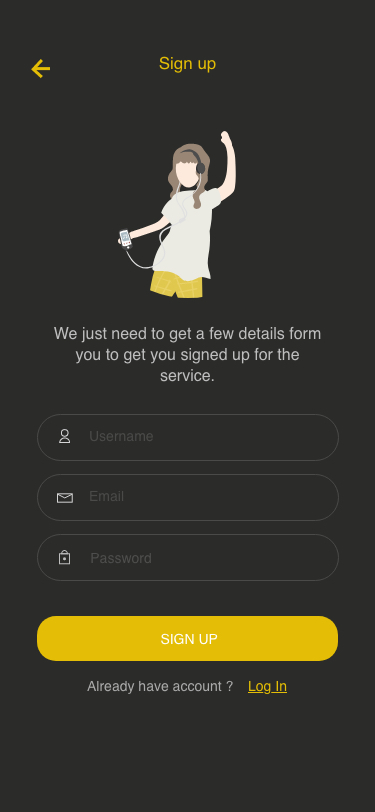EditText: (37, 414, 340, 462), (37, 474, 340, 522), (37, 534, 340, 582)
Icon: (31, 59, 52, 80), (59, 550, 71, 566), (57, 493, 74, 504), (59, 429, 71, 444)
Image: (118, 131, 237, 299)
Text: (54, 327, 322, 383), (87, 680, 288, 695), (159, 57, 217, 75), (90, 431, 154, 442), (91, 553, 152, 564), (90, 490, 124, 502)
TextButton: (37, 616, 339, 662)
